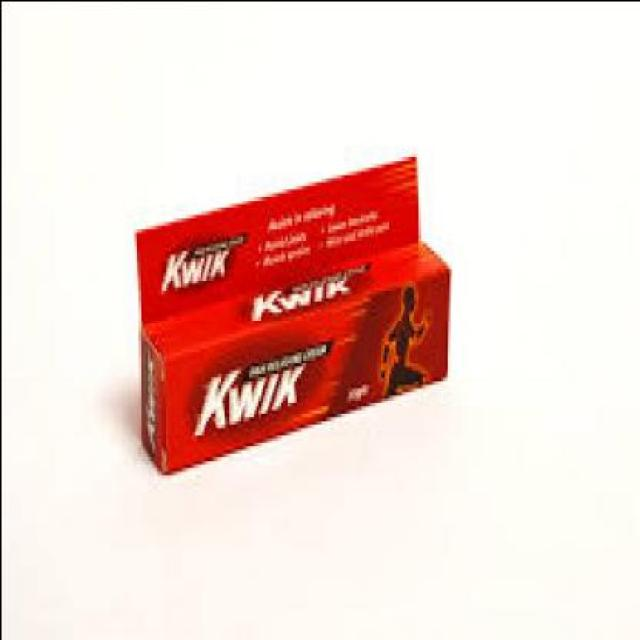CARDBOARD: (132, 152, 446, 478)
